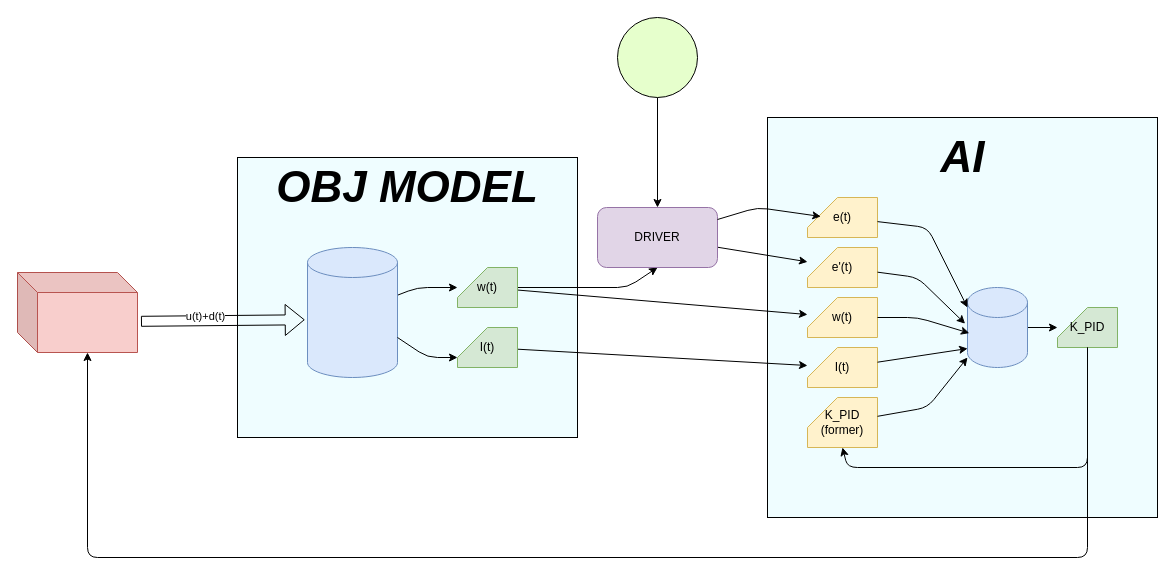
The diagram is 1175 pixels wide and 583 high, and some of its shapes have lost their labels. Each missing label, with the box of its shape:
BLDC MODEL: (306, 246, 398, 378)
MODEL: (966, 286, 1028, 368)
PID: (16, 272, 138, 352)
SETPOINT: (616, 16, 698, 98)
